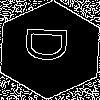D: (25, 25, 78, 64)
